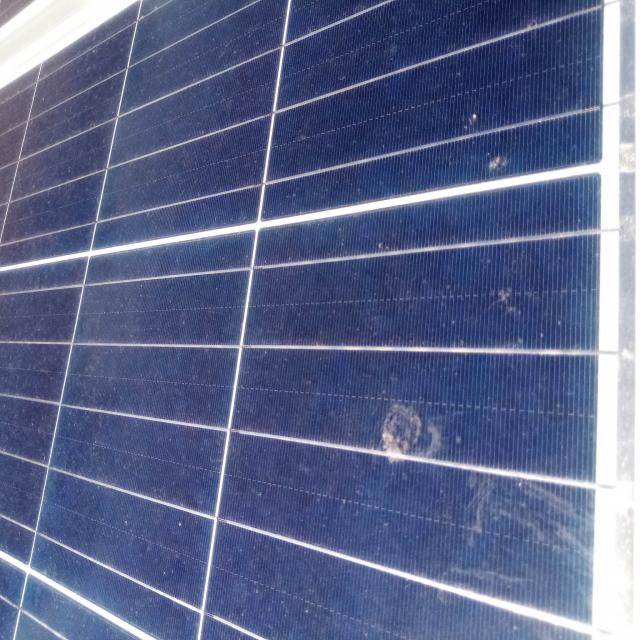faulty: (0, 0, 601, 640)
